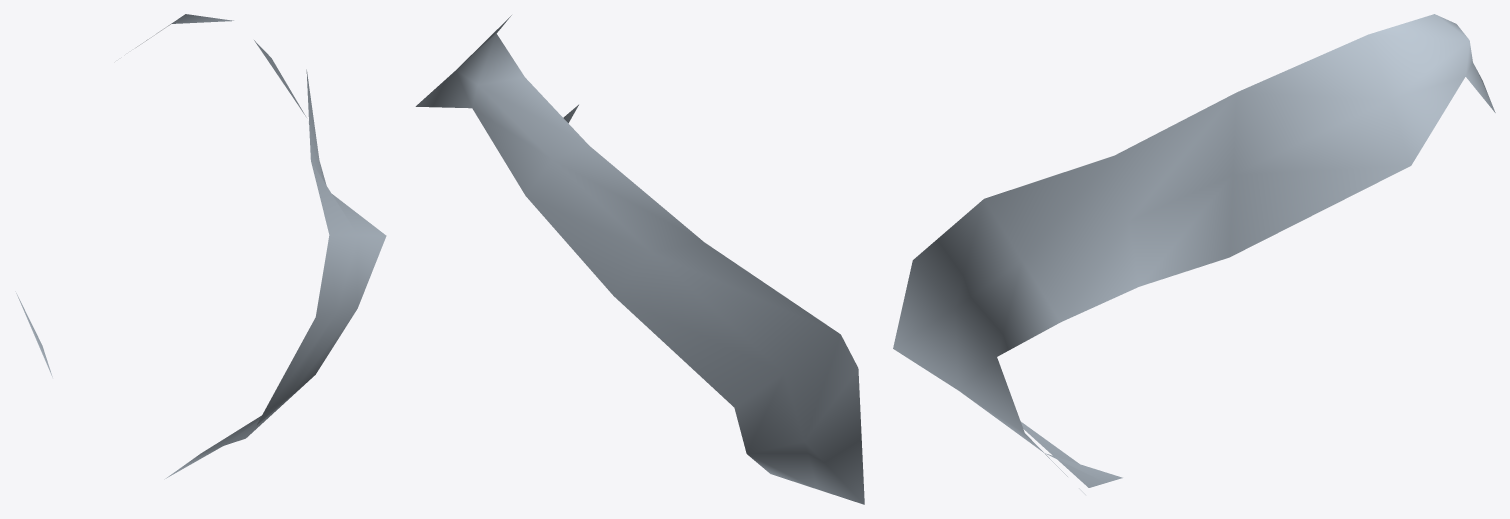
Rendered from articular-capsule-of-superior-tibiofibular-joint-l.glb.
The picture shows the model from 3 angles, left to right: view 1: azimuth 30°, elevation 25°; view 2: azimuth 150°, elevation 25°; view 3: azimuth 270°, elevation 25°; orthographic projection. The views are drawn at different scales.
Parts seen in each view (by area): view 1: Articular capsule of superior tibiofibular joint.l; view 2: Articular capsule of superior tibiofibular joint.l; view 3: Articular capsule of superior tibiofibular joint.l.
Boxes of the visible parts, x1,y1,x2,y2 form: Articular capsule of superior tibiofibular joint.l: (15,14,386,479); Articular capsule of superior tibiofibular joint.l: (415,15,864,504); Articular capsule of superior tibiofibular joint.l: (893,14,1495,494).
Size of the model in its own units: 0.0232 by 0.0279 by 0.0258.
